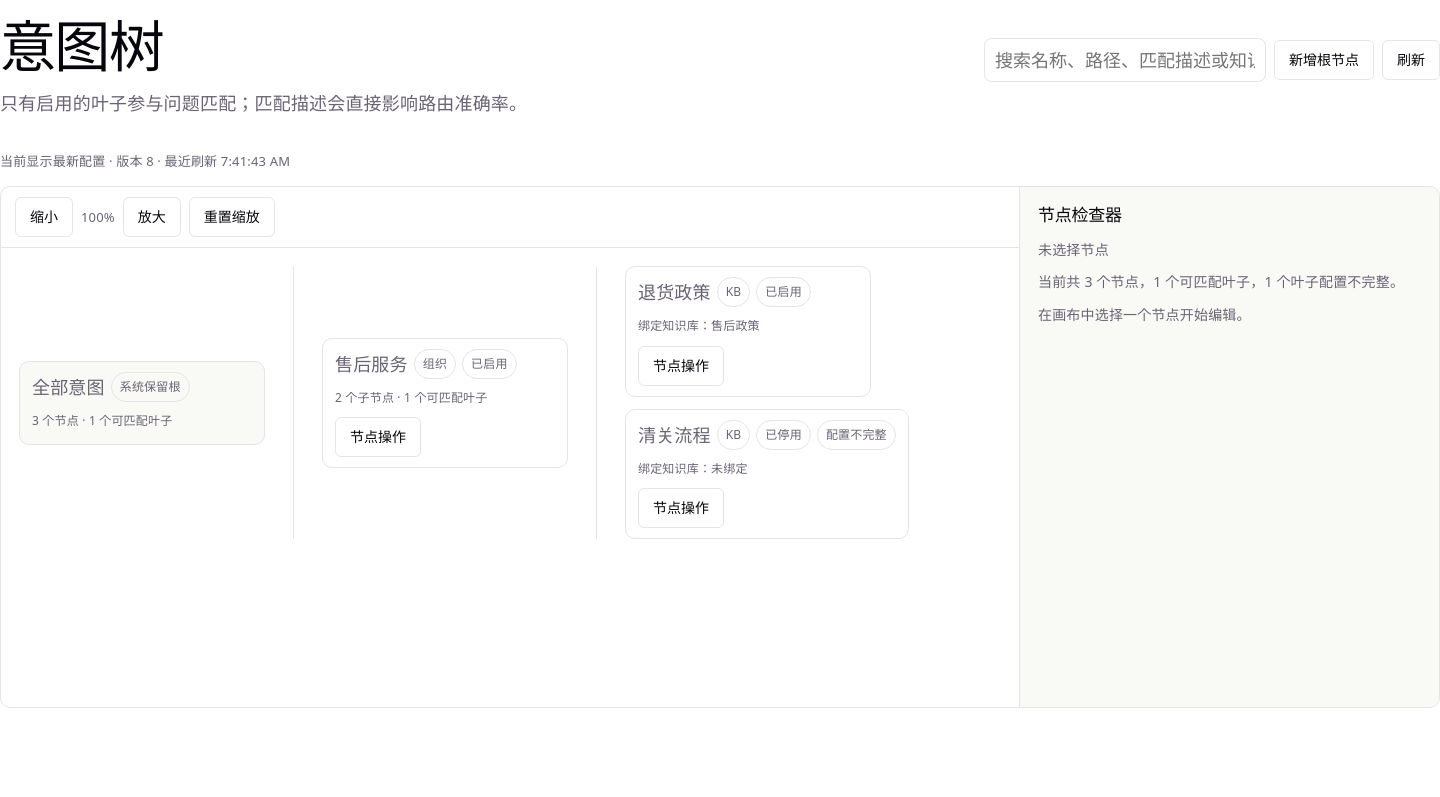
it: 意图树 C — 画布与检查器 › 有未保存修改时切换节点先要确认，放弃后才换节点
Click the list item with aria-label "退货政策 · KB · 已启用": (767, 332) left=625, top=266, right=909, bottom=397
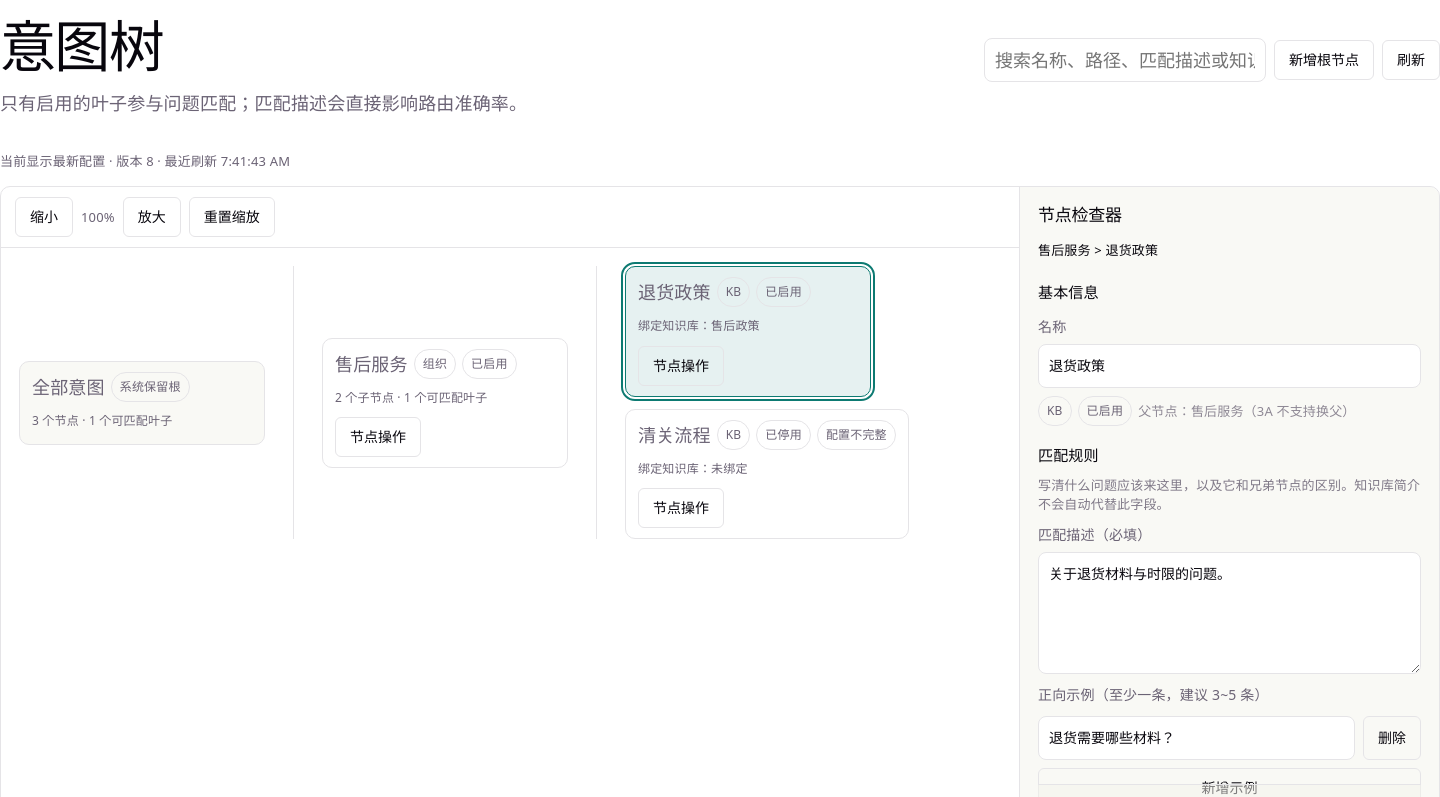
In the field named "节点名称": (1230, 366) left=1038, top=344, right=1421, bottom=388, type "改了"
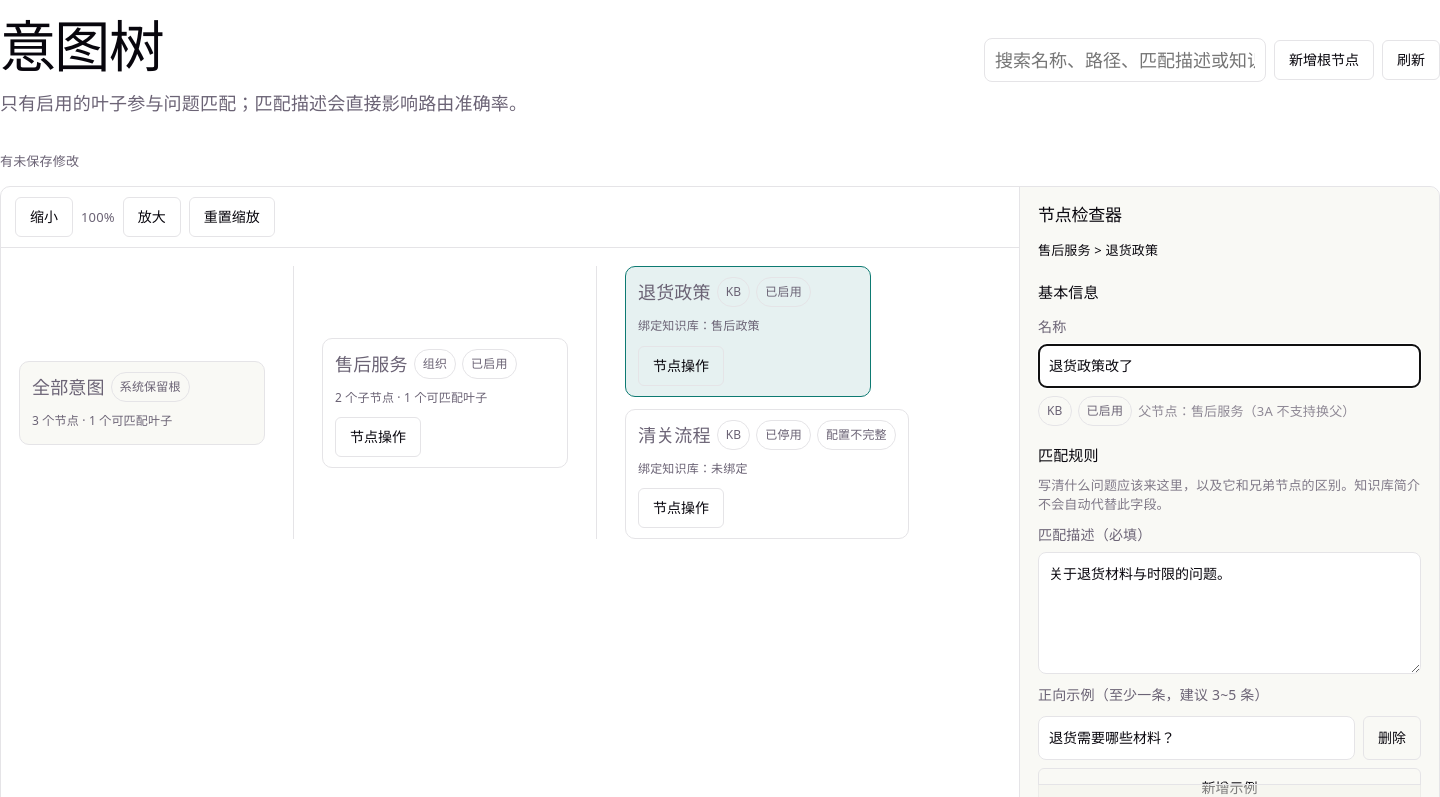
Click the list item "清关流程 KB 已停用 配置不完整 绑定知识库：未绑定 节点操作": (767, 474) left=625, top=409, right=909, bottom=539
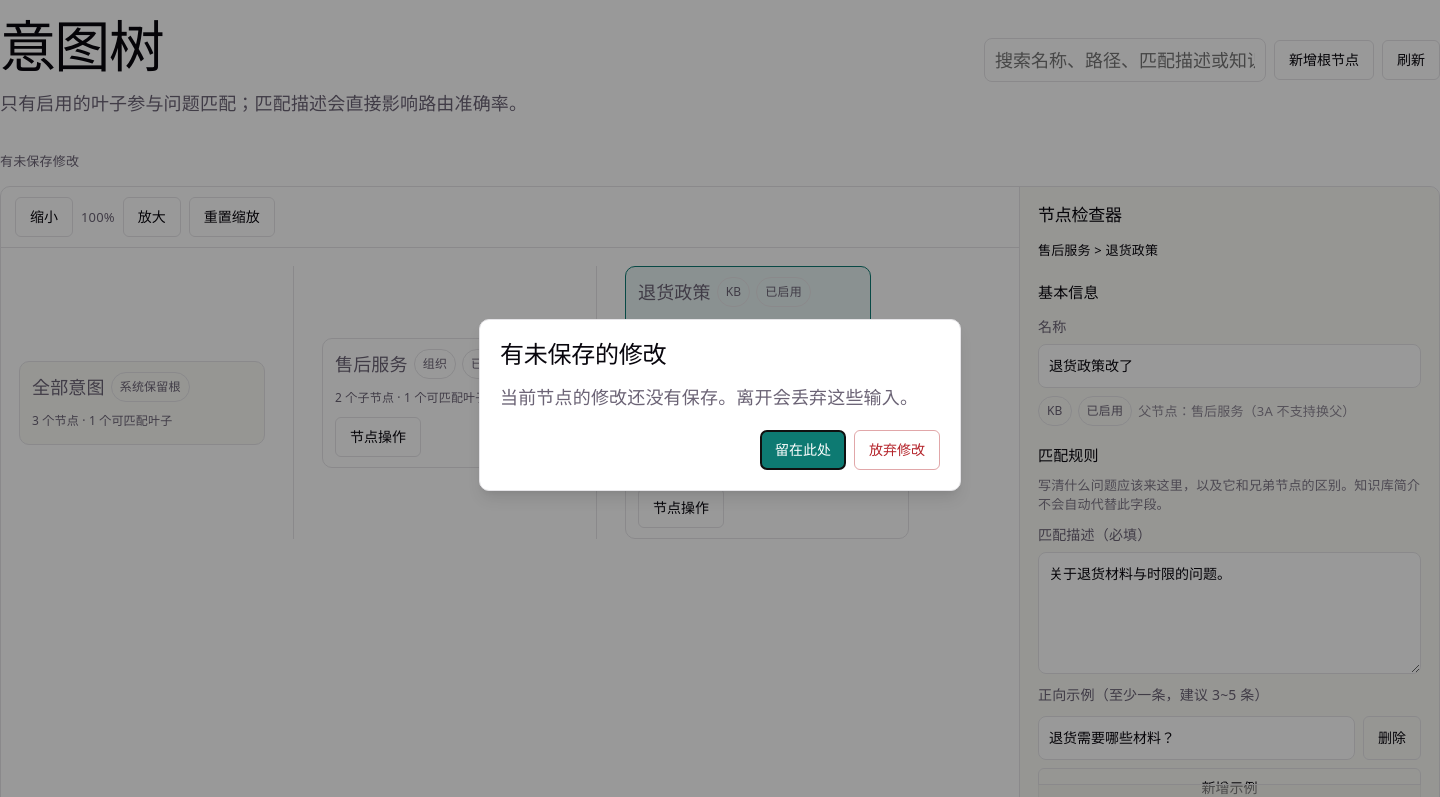
Result: the field named "节点名称" holds "退货政策改了" at left=1038, top=344, right=1421, bottom=388
Result: the heading "有未保存的修改" is shown at left=500, top=337, right=666, bottom=370
Click the button "放弃修改": (897, 450) left=854, top=430, right=940, bottom=470
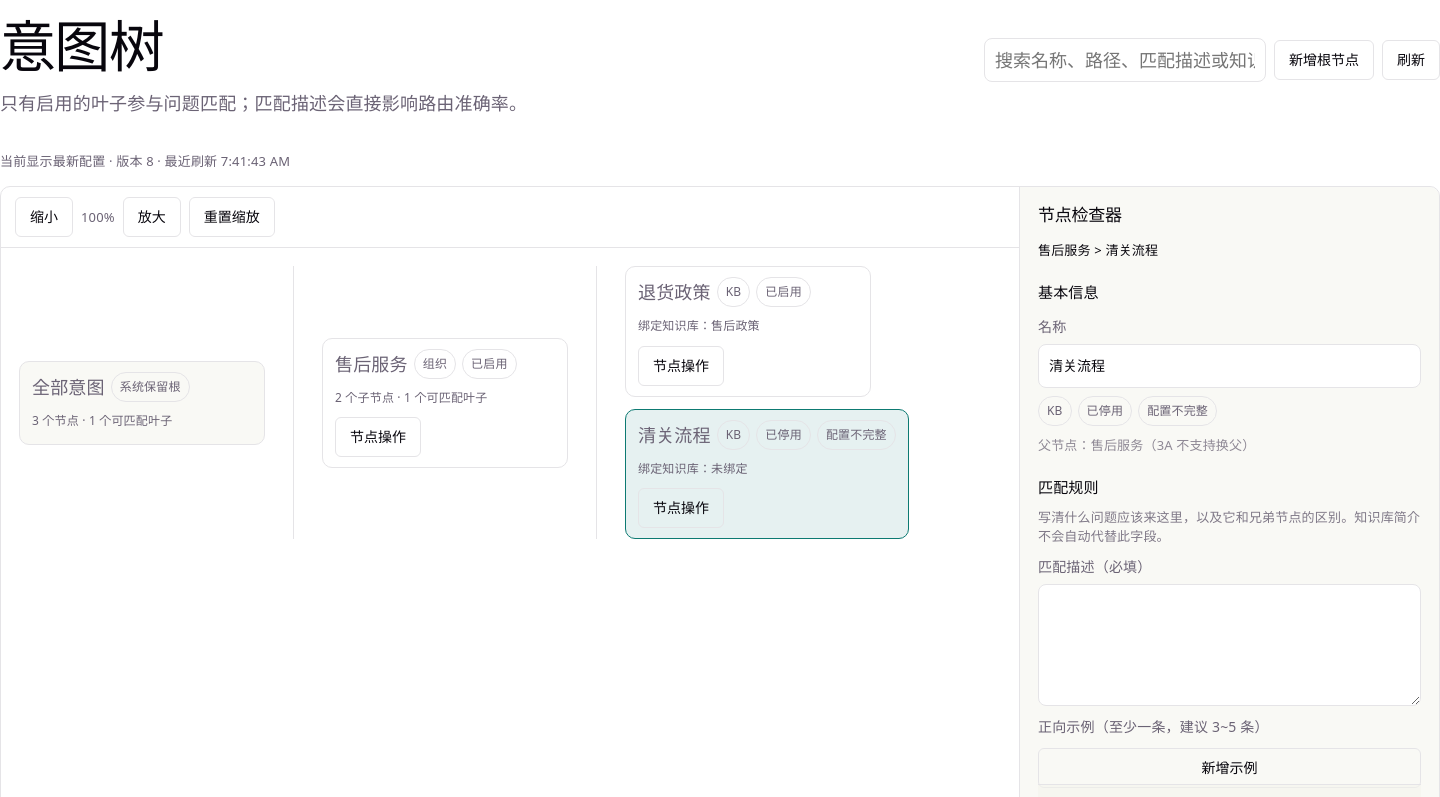
Result: the field named "节点名称" holds "清关流程" at left=1038, top=344, right=1421, bottom=388
